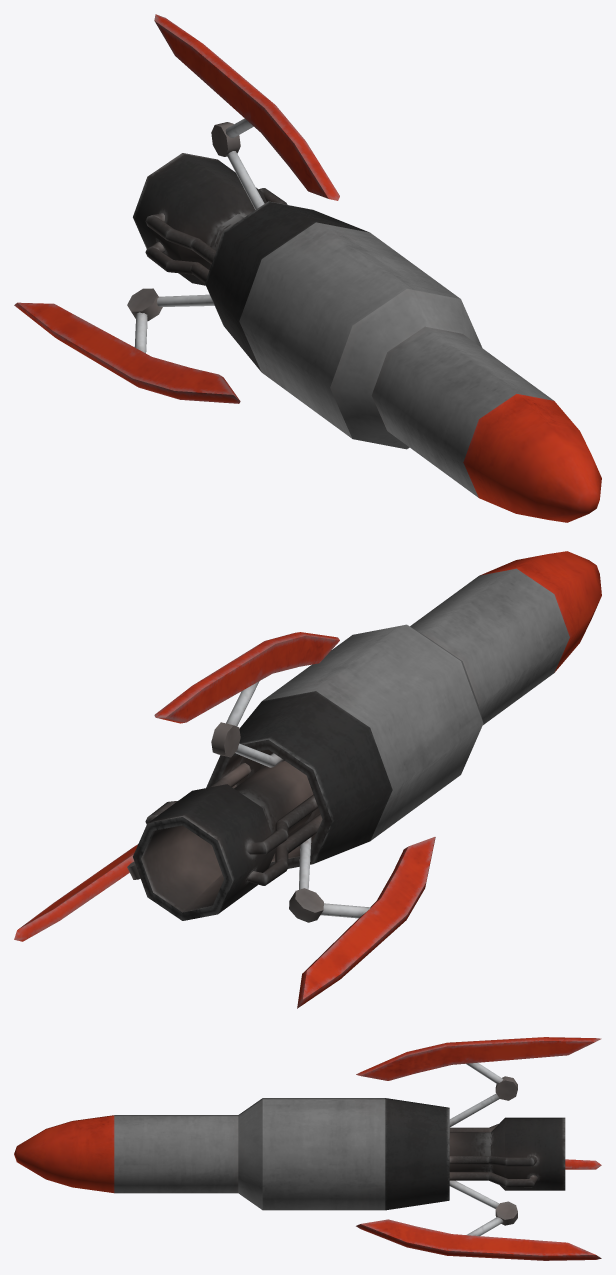
File: rocket.glb
3 views of the same model, one above another, from view 1: azimuth 30°, elevation 25°; view 2: azimuth 150°, elevation 25°; view 3: azimuth 270°, elevation 25° (orthographic). The views are drawn at different scales.
Visible parts, largest first — view 1: mini_rocket; view 2: mini_rocket; view 3: mini_rocket.
Part boxes in pixels (<box>): mini_rocket: <box>14,14,601,522</box>; mini_rocket: <box>14,551,601,1008</box>; mini_rocket: <box>14,1037,601,1260</box>.
Bounding box in the file's own units: 2.18 × 1.9 × 5.7.
Materials: 1 (1 with a texture image).
